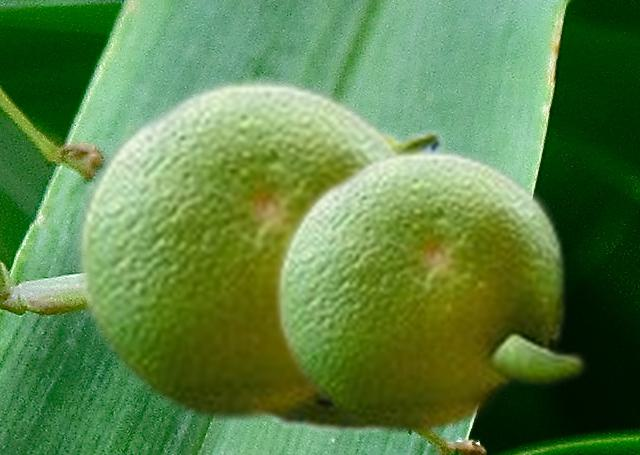dalandan: (71, 71, 404, 423), (271, 142, 588, 435), (265, 121, 451, 436)
